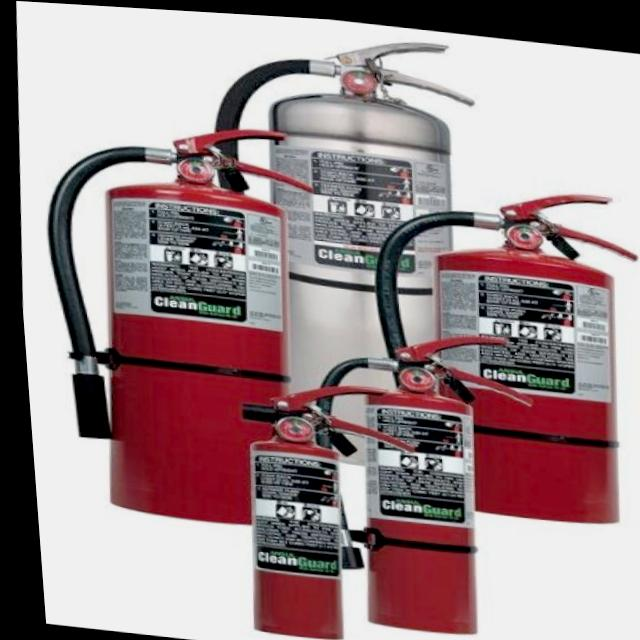FireExtinguisher: (175, 10, 503, 484), (13, 98, 339, 536), (342, 162, 640, 527), (275, 305, 548, 640), (206, 361, 428, 640)
